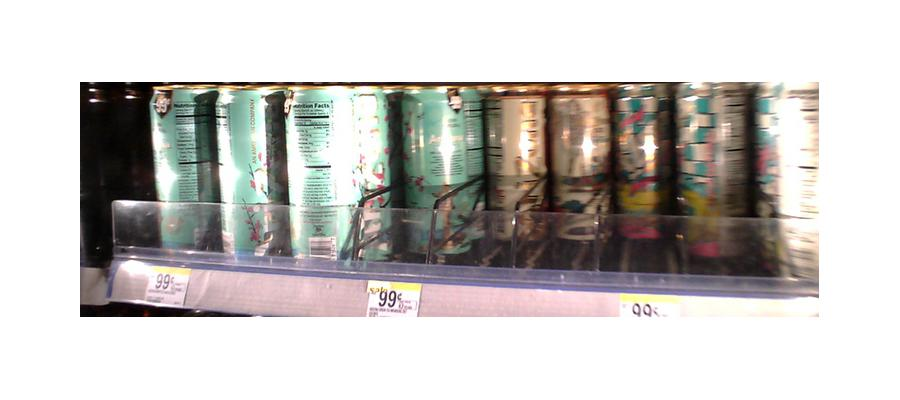bottle: (398, 89, 483, 256), (283, 91, 361, 268), (681, 85, 747, 266), (150, 83, 219, 253), (216, 86, 282, 259), (617, 84, 672, 276), (487, 94, 544, 266), (553, 93, 609, 266), (350, 92, 394, 262)
